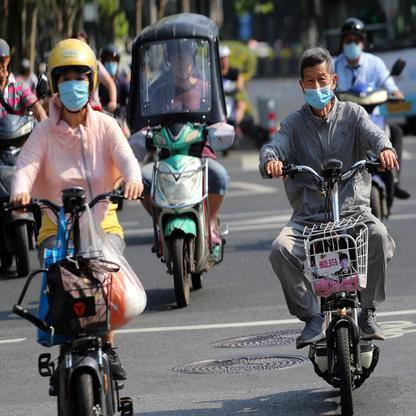target: (9, 37, 147, 407), (258, 45, 395, 411)
